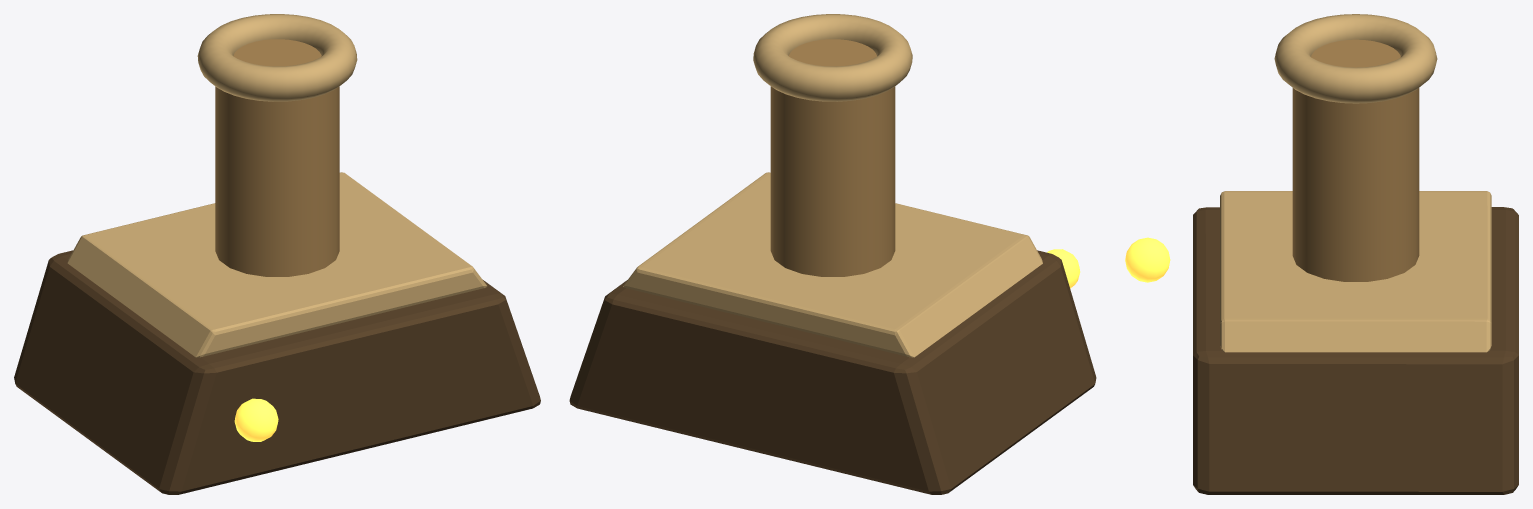
File: laser_l.glb
The picture shows the model from 3 angles, left to right: view 1: azimuth 30°, elevation 25°; view 2: azimuth 150°, elevation 25°; view 3: azimuth 270°, elevation 25°; orthographic projection.
Visible parts, largest first — view 1: plinth, plate, column, collar, lamp; view 2: plinth, plate, column, collar; view 3: plinth, plate, column, collar, lamp.
Boxes of the visible parts, x1,y1,x2,y2 form: plinth: (14,250,540,494); plate: (67,172,487,357); column: (215,39,339,276); collar: (197,14,357,101); lamp: (234,398,278,441); plinth: (569,250,1096,494); plate: (623,172,1042,357); column: (770,39,895,276); collar: (753,14,912,101); plinth: (1193,207,1518,494); plate: (1220,191,1491,352); column: (1292,39,1419,281); collar: (1274,14,1437,103); lamp: (1125,237,1170,282).
Bounding box in the file's own units: 9.9 × 8.8 × 8.7.
